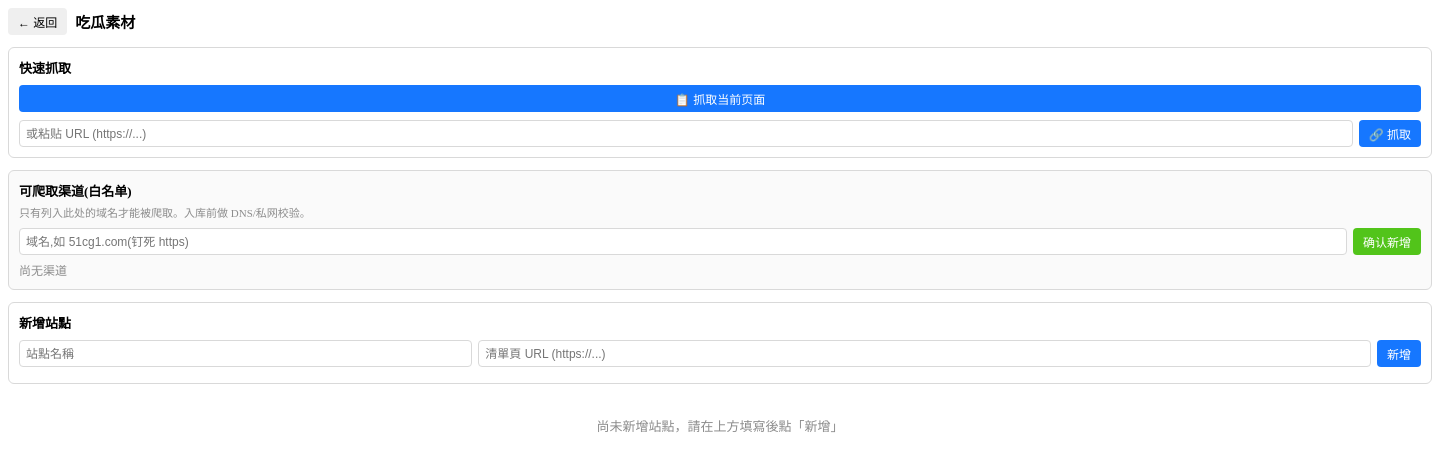
GossipView › 新增站点 — 空名称/URL 显示验证错误，不调 createGossipSite
The image size is (1440, 468).
Check: the field with placeholder "站點名稱" is shown, box [19,340,472,367]
Note: 点新增但不填任何内容
Click the button "新增": click(1399, 354) [1377,340,1421,367]
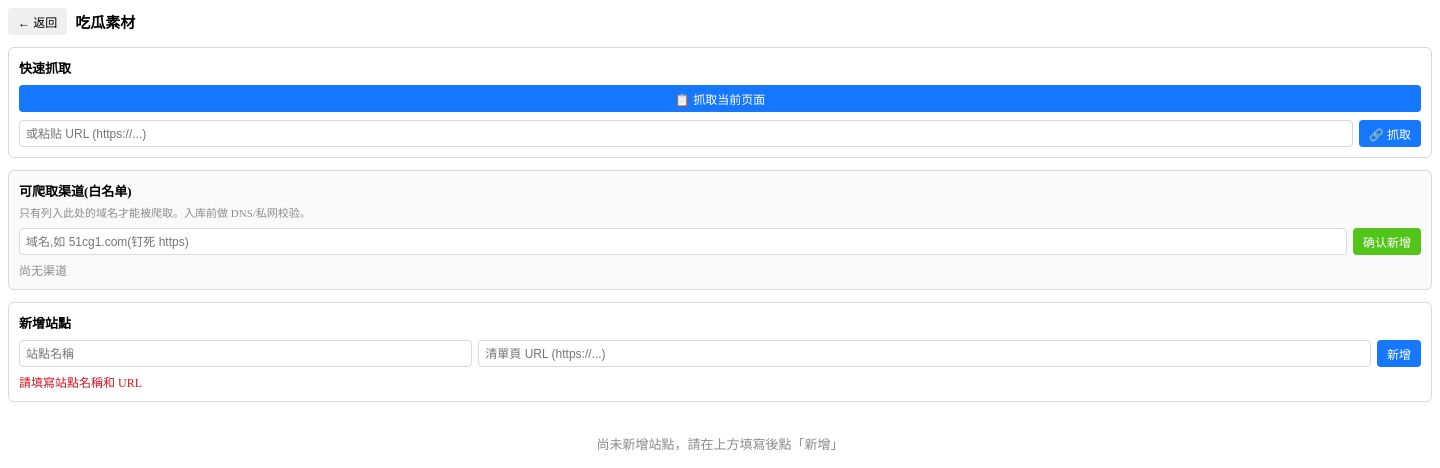
Check: the text "請填寫站點名稱和 URL" is shown, box [19,376,142,390]
